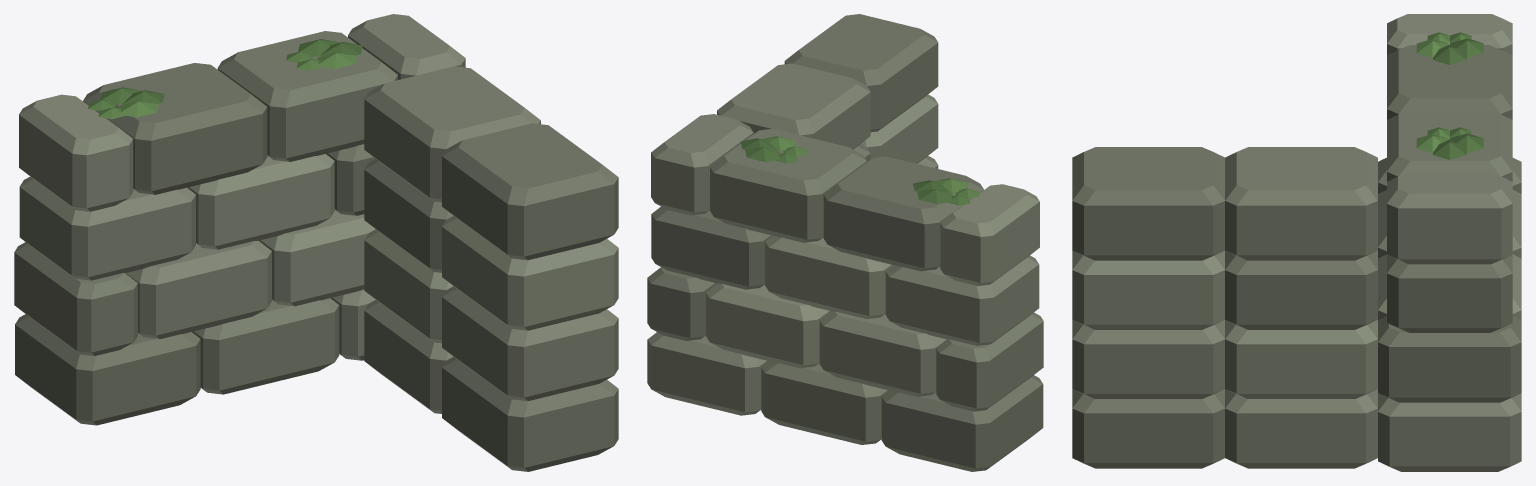
The model's file is stone_wall_corner.glb.
3 renders of one model, left to right at view 1: azimuth 30°, elevation 25°; view 2: azimuth 150°, elevation 25°; view 3: azimuth 270°, elevation 25°, orthographic. The views are drawn at different scales.
Visible parts, largest first — view 1: geometry; view 2: geometry; view 3: geometry.
Boxes of the visible parts, x1,y1,x2,y2 form: geometry: (14, 14, 618, 471); geometry: (647, 14, 1043, 471); geometry: (1072, 14, 1521, 471).
Bounding box in the file's own units: 0.994 × 0.7068 × 1.
